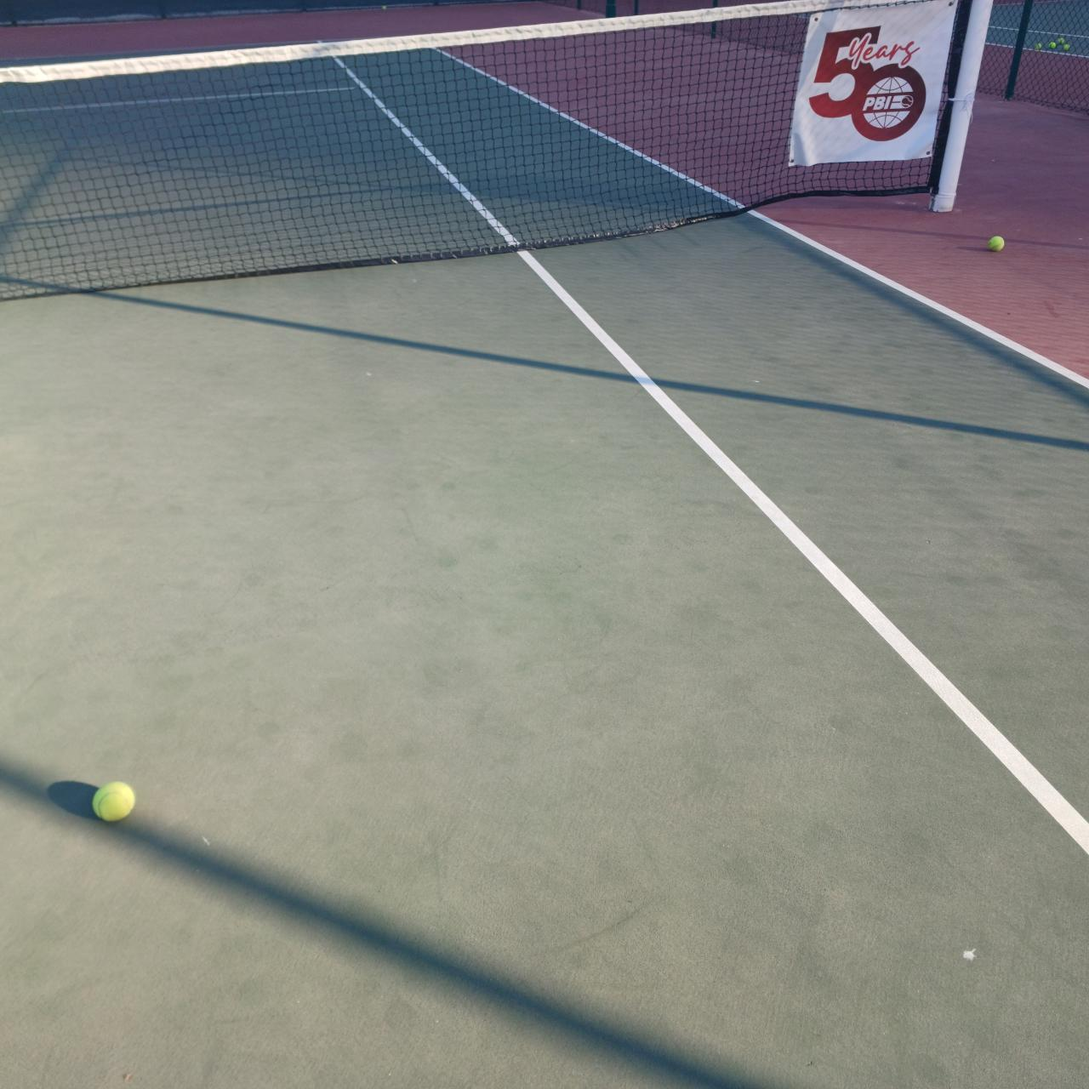tennis-ball: (90, 778, 136, 822), (988, 235, 1005, 251)
